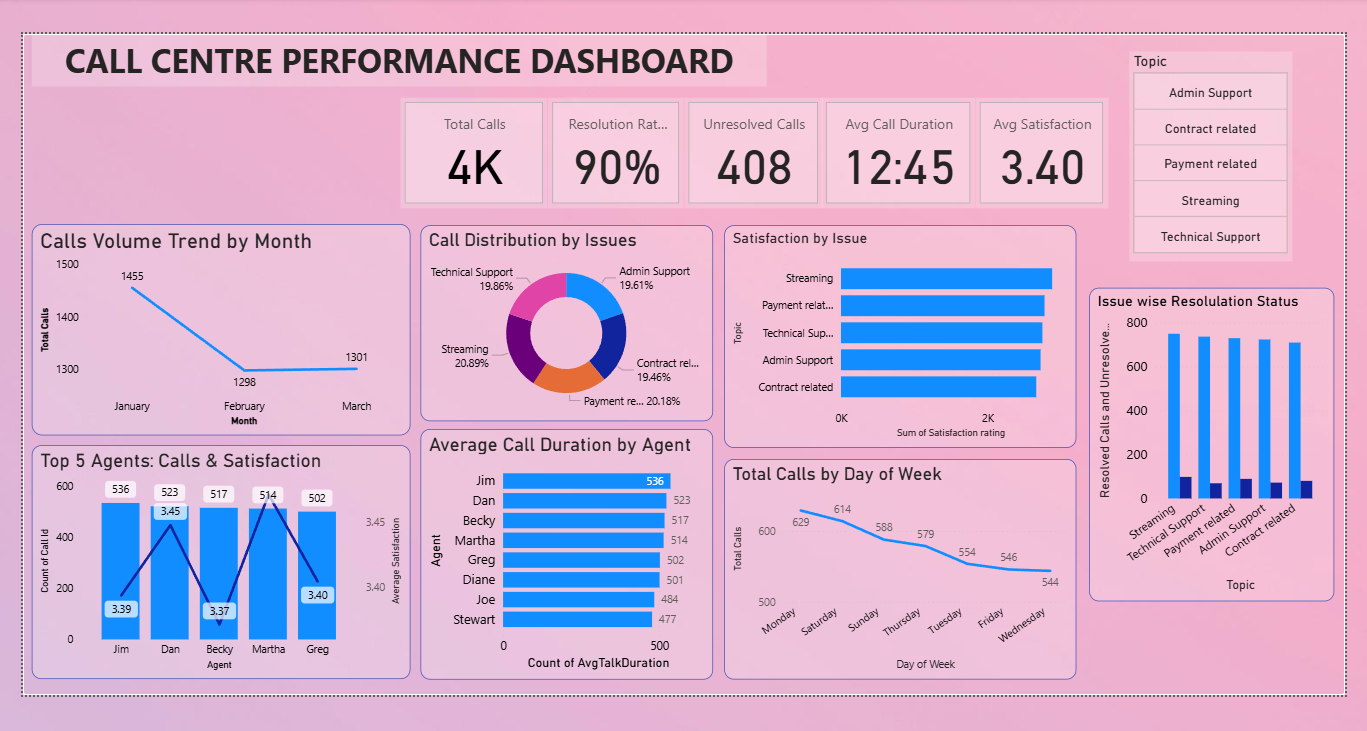

What the dashboard file says about the page in this screenshot:
{"tool":"powerbi","page":{"name":"Page 1","canvas":[1511,755],"ordinal":0},"visuals":[{"type":"textbox","box":[10,0,840,60],"z":0},{"type":"lineChart","title":" Calls Volume Trend by Month","fields":{"Category":["Sheet1.Date.Variation.Date Hierarchy.Month"],"Y":["Sheet1.Total Calls"]},"box":[10,217.1,432.9,241.4],"z":1000},{"type":"lineStackedColumnComboChart","title":"Top 5 Agents: Calls & Satisfaction","fields":{"Category":["Sheet1.Agent"],"Y":["Sheet1.Call Id"],"Y2":["Sheet1.Average Satisfaction"]},"box":[10,470,432.9,267.1],"z":2000},{"type":"barChart","title":"Average Call Duration by Agent","fields":{"Category":["Sheet1.Agent"],"Y":["Sheet1.AvgTalkDuration"]},"box":[454,452,334,286],"z":3000},{"type":"donutChart","title":"Call Distribution by Issues","fields":{"Y":["Sheet1.Total Calls"],"Series":["Sheet1.Topic"]},"box":[454,218,334,224],"z":4000},{"type":"barChart","title":" Satisfaction by Issue","fields":{"Category":["Sheet1.Topic"],"Y":["Sheet1.Satisfaction rating"]},"box":[802,218,402,254],"z":5000},{"type":"lineChart","fields":{"Y":["Sheet1.Total Calls"],"Category":["Sheet1.Day of Week"]},"box":[802,486,402,252],"z":6000},{"type":"clusteredColumnChart","title":"Issue wise Resolulation Status","fields":{"Category":["Sheet1.Topic"],"Y":["Sheet1.Resolved Calls","Sheet1.Unresolved Calls"]},"box":[1218,290,280,358],"z":7000},{"type":"cardVisual","fields":{"Data":["Sheet1.Total Calls"]},"box":[431.7,73.3,168.3,126.7],"z":8000},{"type":"cardVisual","fields":{"Data":["Sheet1.Resolution Rate %"]},"box":[600,73.3,155,126.7],"z":9000},{"type":"cardVisual","fields":{"Data":["Sheet1.Unresolved Calls"]},"box":[755,73.3,158.3,126.7],"z":10000},{"type":"cardVisual","fields":{"Data":["Sheet1.Average Satisfaction"]},"box":[1088.3,73.3,151.7,126.7],"z":11000},{"type":"advancedSlicerVisual","fields":{"Values":["Sheet1.Topic"]},"box":[1264,20,186,240],"z":12000},{"type":"cardVisual","fields":{"Data":["Sheet1.Avg Call Duration"]},"box":[913.3,73.3,175,126.7],"z":13000}]}

Visuals, with their boxes on the page's 1511x755 design canvas (x1, y1, x2, y2). These are canvas units, not pixel positions in the 1367x731 screenshot, which may show the page scaled, cropped or inside an application window:
textbox: (x1=10, y1=0, x2=850, y2=60)
" Calls Volume Trend by Month" lineChart: (x1=10, y1=217, x2=443, y2=458)
"Top 5 Agents: Calls & Satisfaction" lineStackedColumnComboChart: (x1=10, y1=470, x2=443, y2=737)
"Average Call Duration by Agent" barChart: (x1=454, y1=452, x2=788, y2=738)
"Call Distribution by Issues" donutChart: (x1=454, y1=218, x2=788, y2=442)
" Satisfaction by Issue" barChart: (x1=802, y1=218, x2=1204, y2=472)
lineChart - Sheet1.Total Calls x Sheet1.Day of Week: (x1=802, y1=486, x2=1204, y2=738)
"Issue wise Resolulation Status" clusteredColumnChart: (x1=1218, y1=290, x2=1498, y2=648)
cardVisual - Sheet1.Total Calls: (x1=432, y1=73, x2=600, y2=200)
cardVisual - Sheet1.Resolution Rate %: (x1=600, y1=73, x2=755, y2=200)
cardVisual - Sheet1.Unresolved Calls: (x1=755, y1=73, x2=913, y2=200)
cardVisual - Sheet1.Average Satisfaction: (x1=1088, y1=73, x2=1240, y2=200)
advancedSlicerVisual - Sheet1.Topic: (x1=1264, y1=20, x2=1450, y2=260)
cardVisual - Sheet1.Avg Call Duration: (x1=913, y1=73, x2=1088, y2=200)
